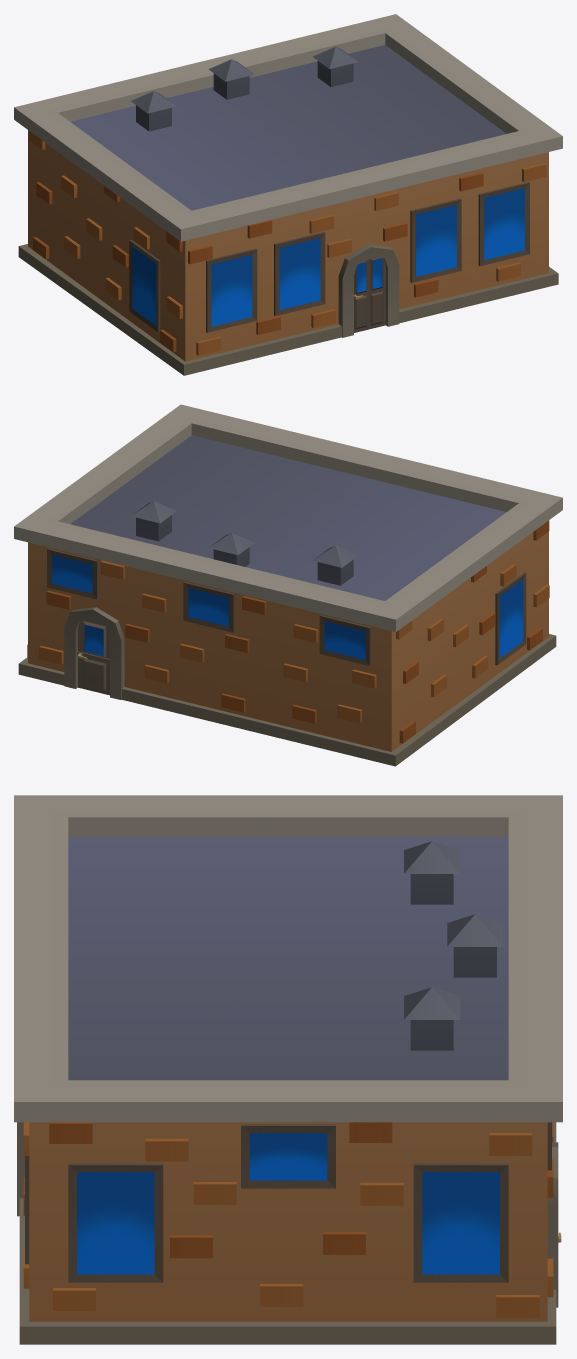
Rendered from SM_House_21.FBX.
3 renders of one model, top to bottom at view 1: azimuth 30°, elevation 25°; view 2: azimuth 150°, elevation 25°; view 3: azimuth 270°, elevation 25°, orthographic. The views are drawn at different scales.
Parts seen in each view (by area): view 1: SM_House_21; view 2: SM_House_21; view 3: SM_House_21.
Part boxes in pixels (left/top/right/bottom): SM_House_21: left=14, top=14, right=562, bottom=375; SM_House_21: left=14, top=404, right=562, bottom=766; SM_House_21: left=14, top=795, right=562, bottom=1344.
Size of what is drawn, in the model's own units: 1177 by 890 by 500.
